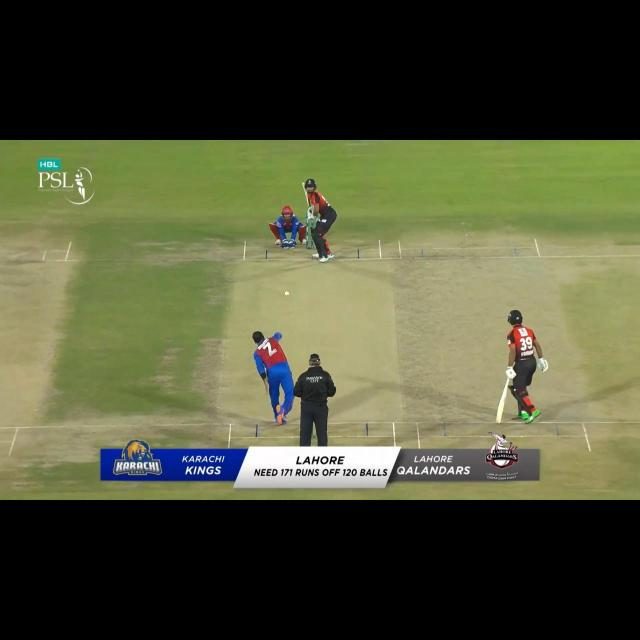bat: (494, 377, 508, 425), (300, 179, 315, 209)
toe: (495, 415, 503, 424), (301, 181, 306, 187)
